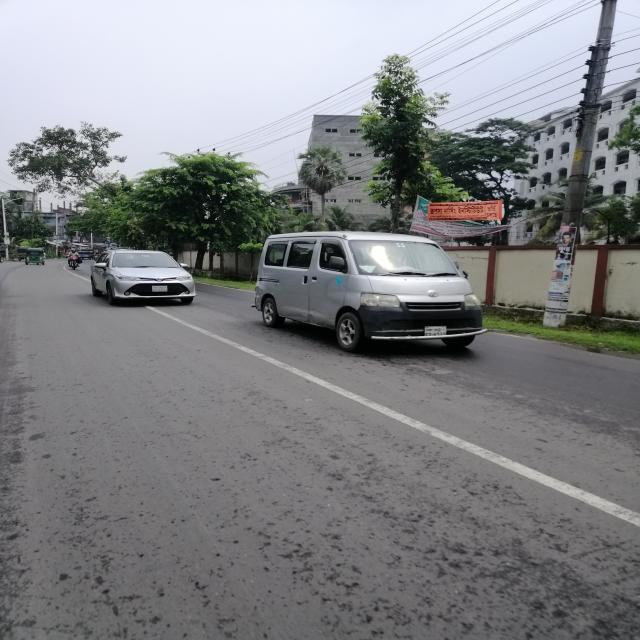Car: (252, 227, 489, 359), (88, 233, 198, 310)
